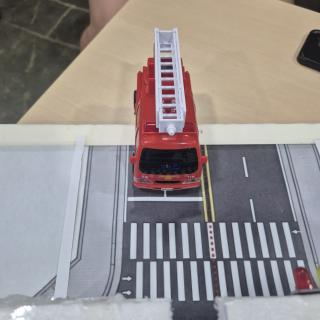Fire_truck: (130, 29, 207, 191)
